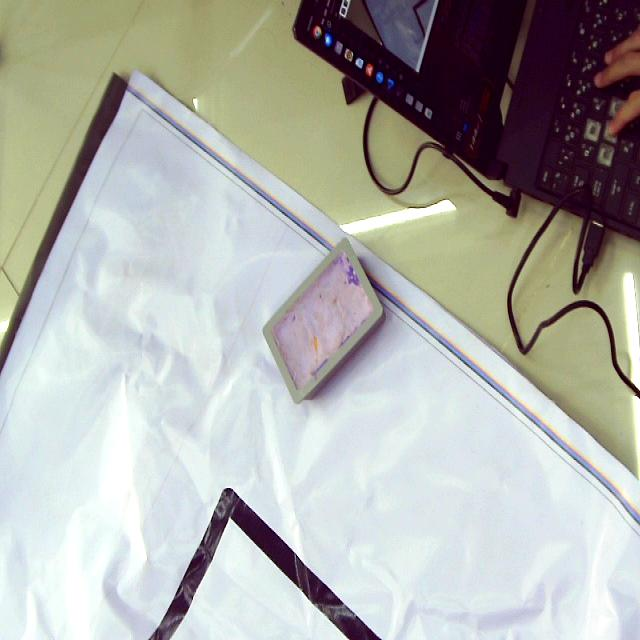block: (262, 236, 384, 404)
